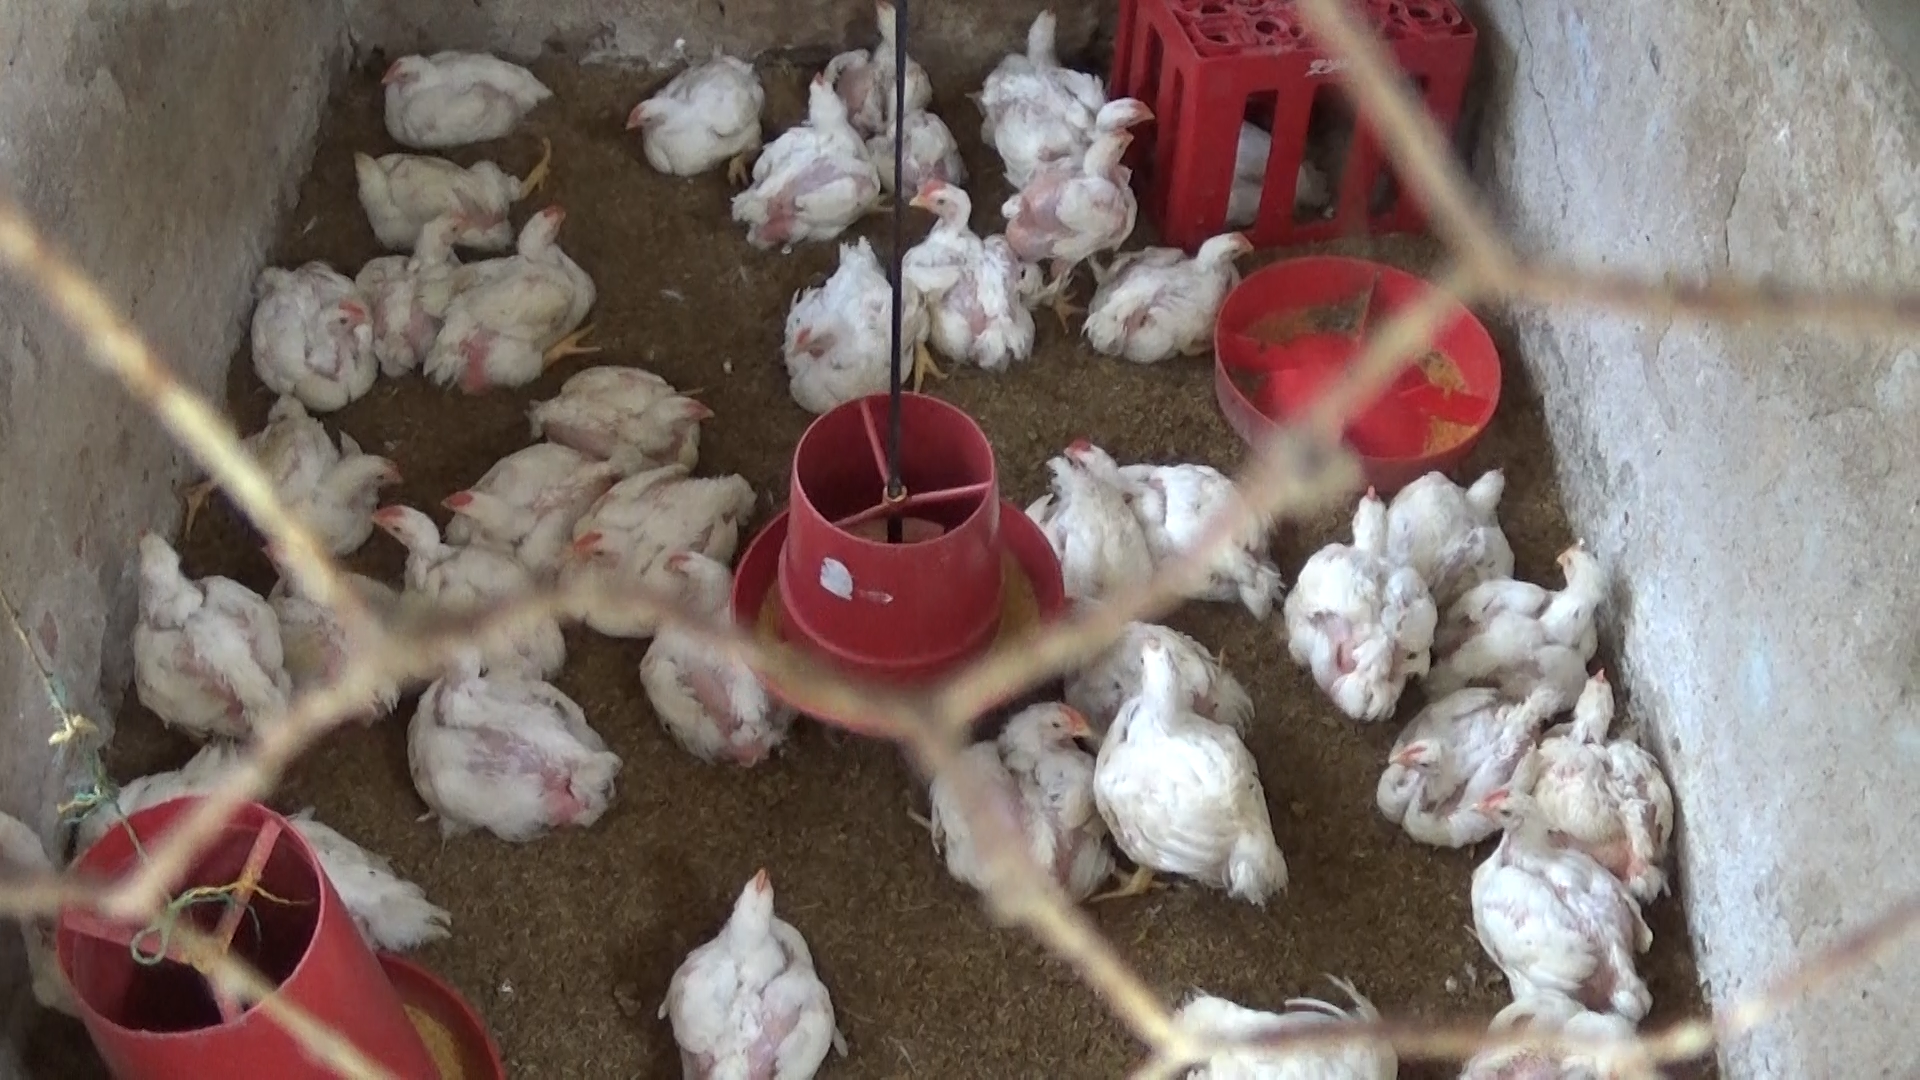Pollos: (400, 618, 625, 848), (646, 855, 865, 1080), (915, 694, 1130, 918), (1461, 785, 1654, 1029), (1105, 636, 1276, 889), (1071, 429, 1286, 615), (113, 522, 290, 738), (566, 448, 757, 640), (988, 96, 1178, 289), (637, 549, 786, 766), (1515, 653, 1676, 852), (1364, 680, 1549, 851), (435, 198, 589, 400), (1282, 535, 1433, 728), (893, 160, 1026, 378), (243, 393, 415, 560), (717, 61, 880, 237), (773, 223, 911, 409), (1000, 431, 1135, 618), (1443, 538, 1615, 684), (342, 127, 556, 243), (612, 36, 761, 194), (351, 207, 485, 378), (367, 497, 535, 633), (431, 448, 615, 568), (1350, 458, 1513, 592), (375, 33, 556, 152), (1087, 223, 1259, 342), (524, 357, 702, 463), (255, 252, 372, 404), (976, 1, 1101, 142), (847, 0, 951, 131)
